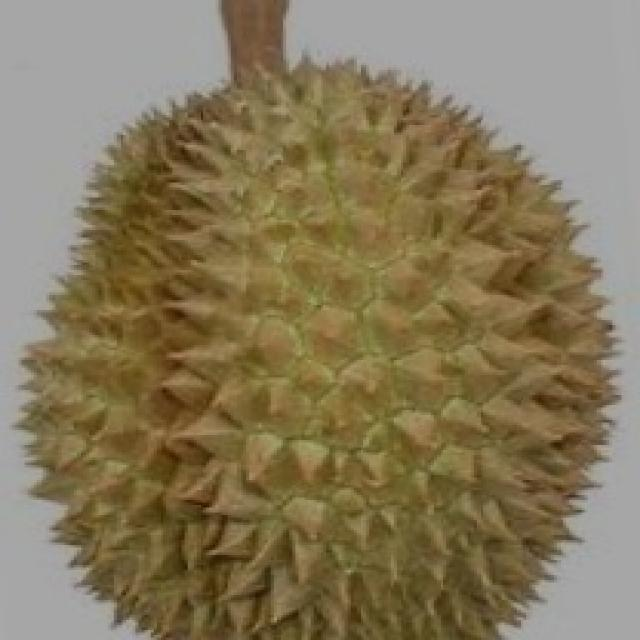fruit: (277, 255, 640, 640), (0, 250, 354, 640)
